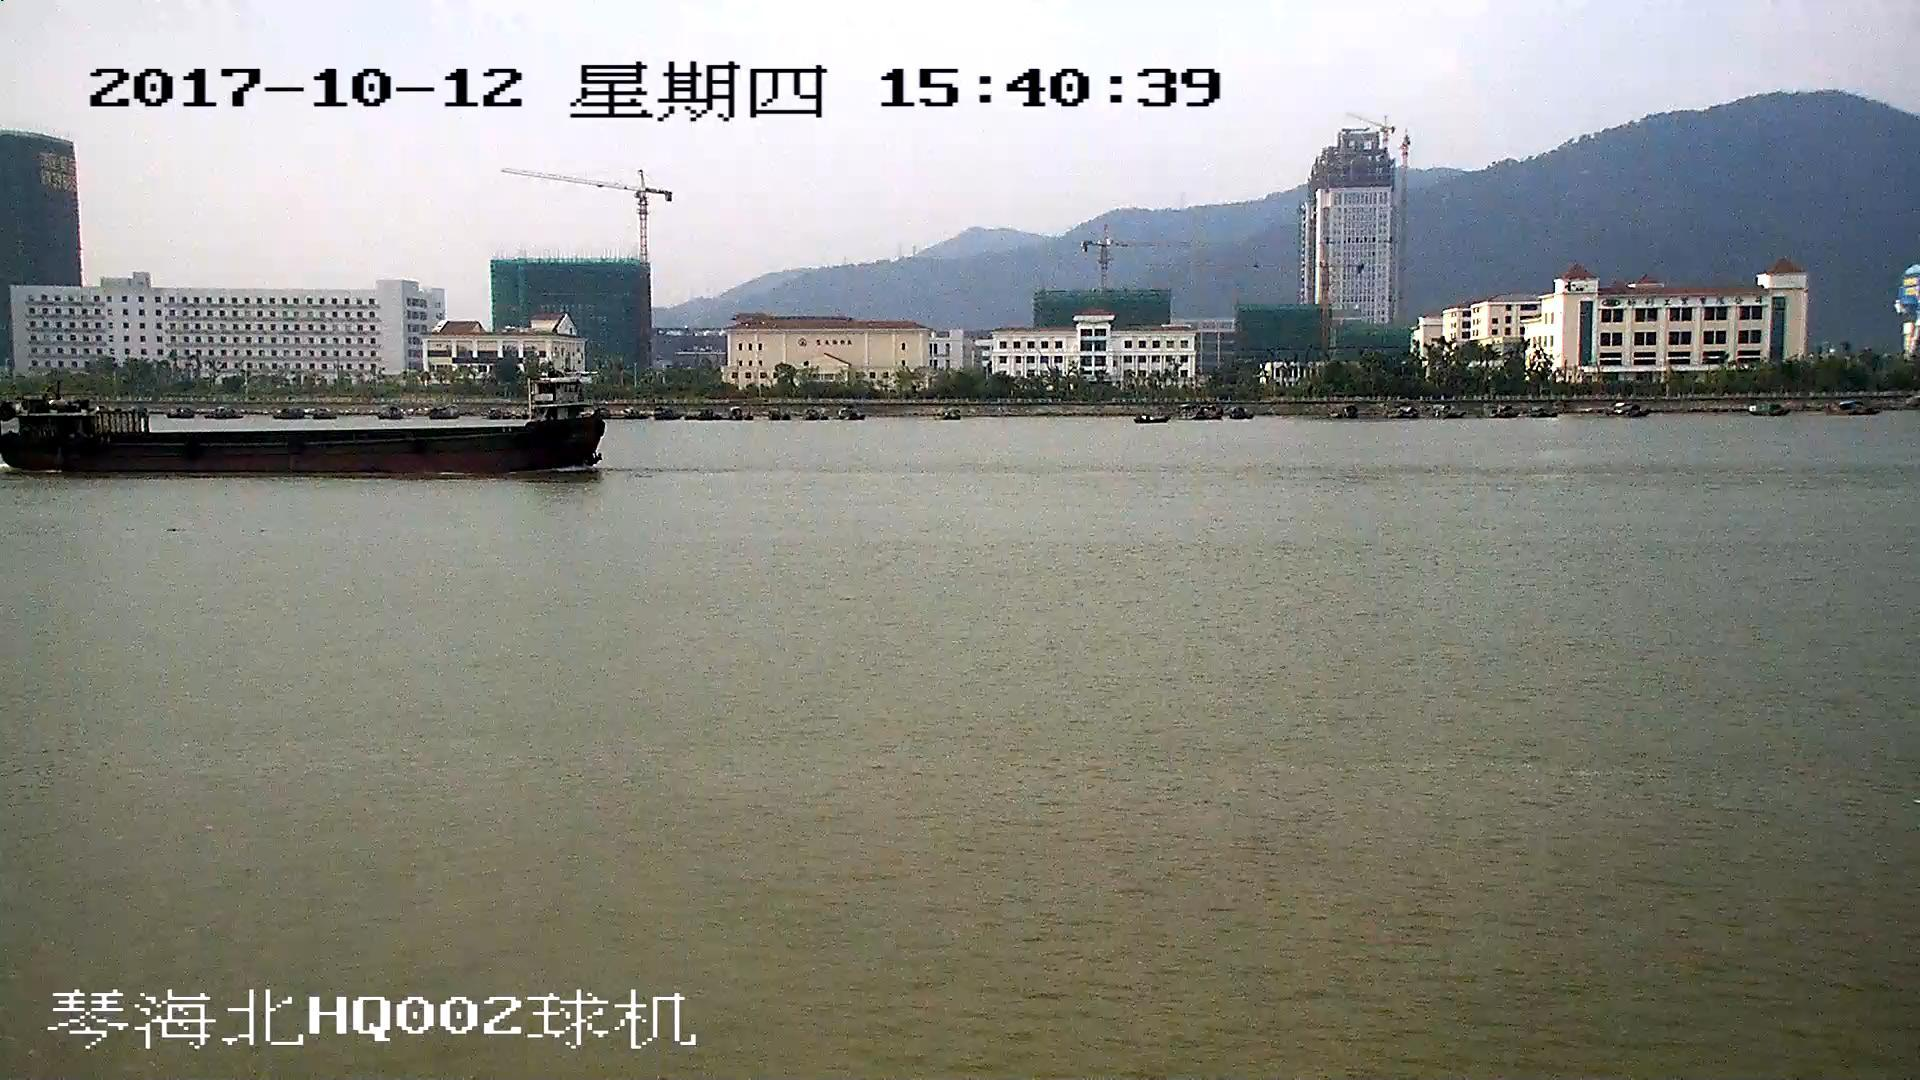Ship: (3, 382, 604, 476)
